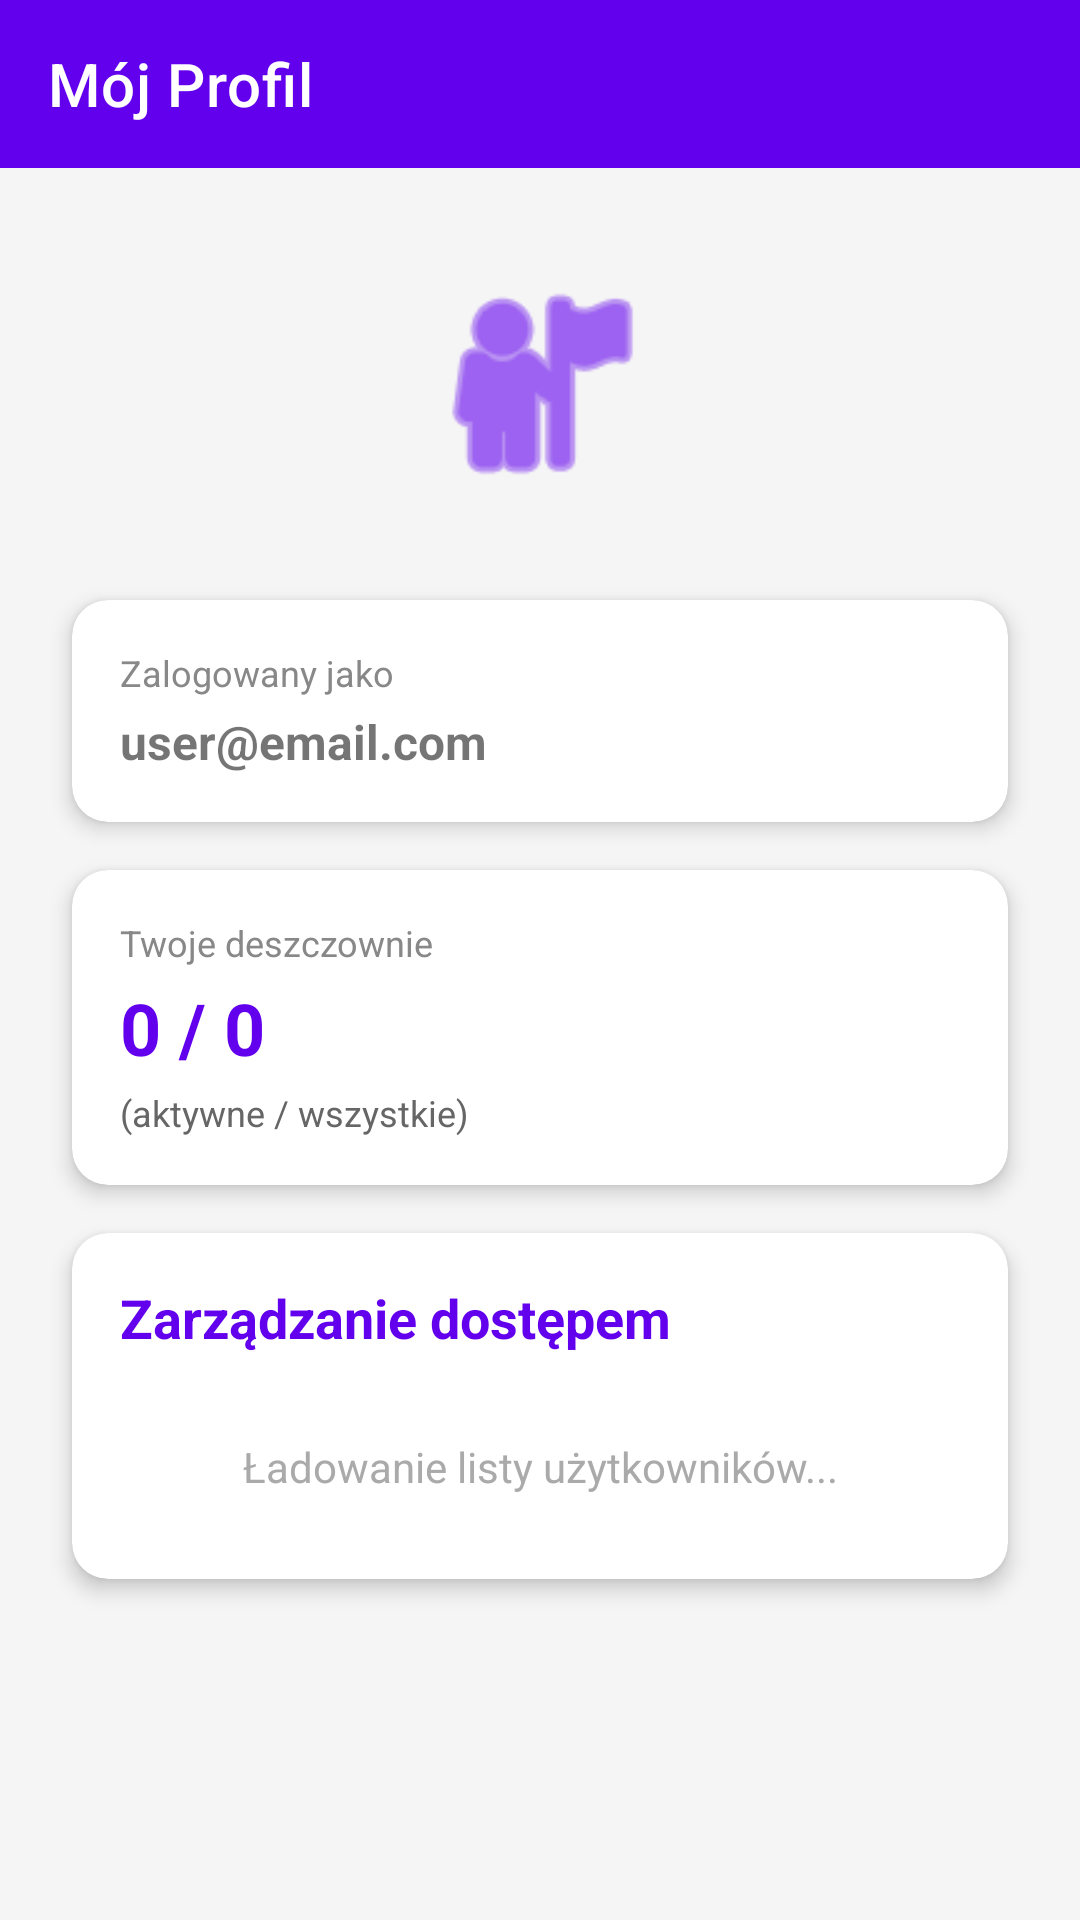

Locate icon controls on the screen. Image size 1080px×1920px, boxes as box=[x1, y1, x2, y2].
myplaces: box=[452, 294, 633, 474]
